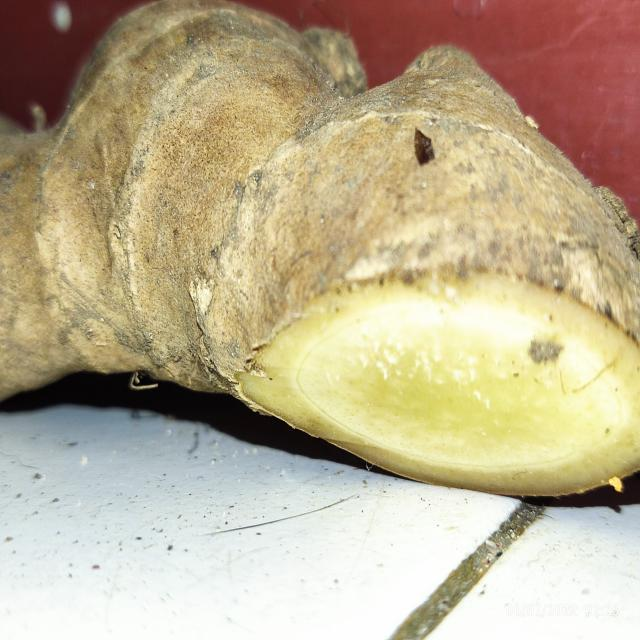ginger: (5, 2, 628, 475)
